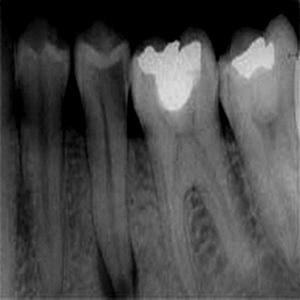tooth: (133, 32, 256, 265), (220, 22, 299, 264), (15, 16, 75, 296), (76, 21, 133, 292)
